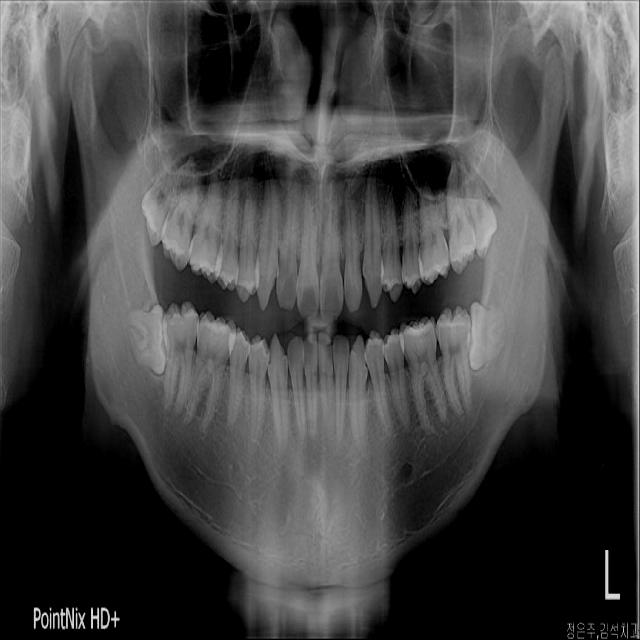impacted tooth: (461, 165, 497, 256), (121, 305, 165, 375), (142, 157, 175, 241), (469, 300, 508, 369)
